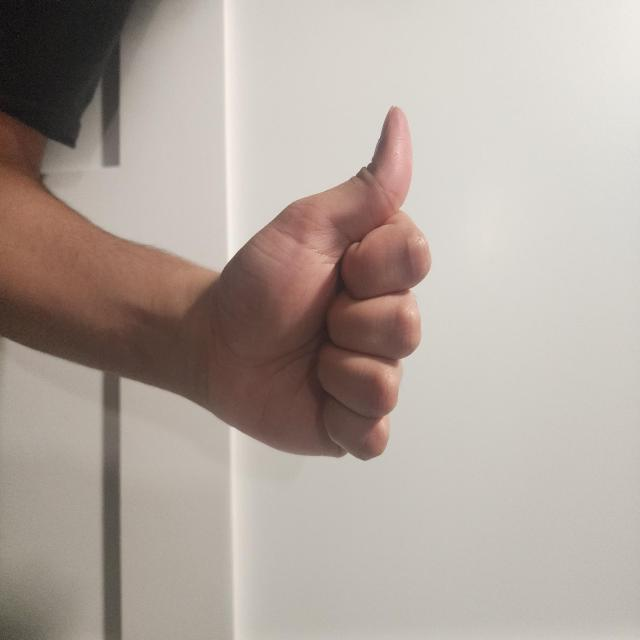A: (237, 273, 512, 583)
